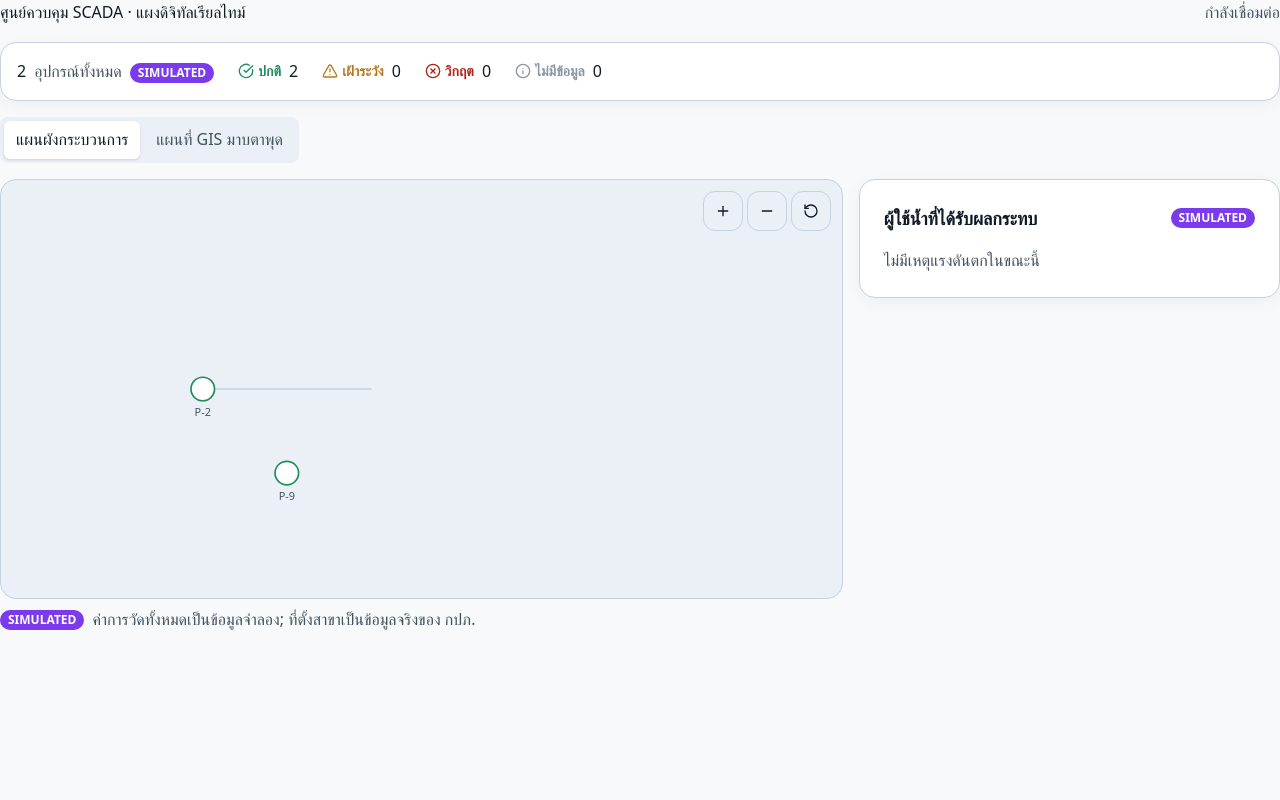
OperationsTwinScreen GIS view › renders the verified bundle: map, provenance legend, energy card, bound-pump SEC
Check: the element showing "แผนผังกระบวนการ แผนที่ GIS มาบตาพุด" is shown, box [0, 117, 299, 163]
Click the tab "แผนที่ GIS มาบตาพุด": (220, 140) [144, 121, 295, 159]
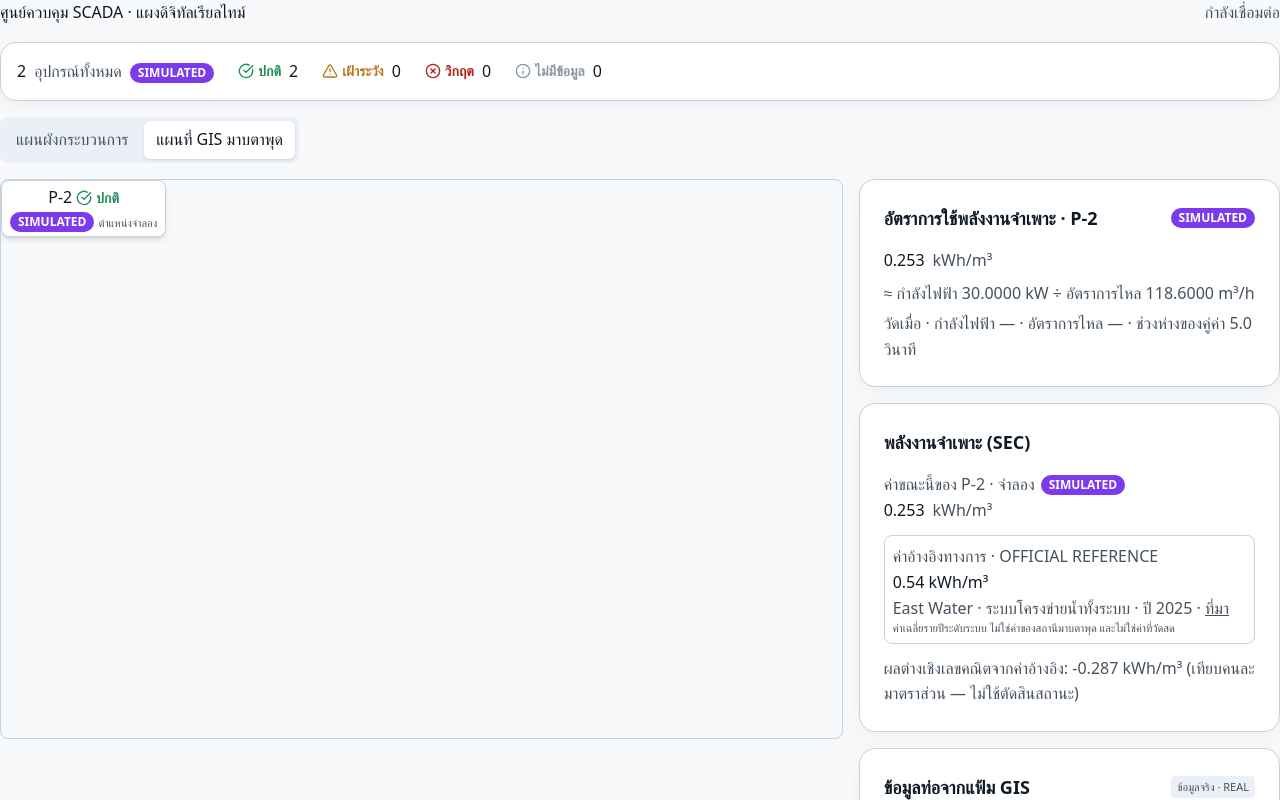
Check: the element with test id "gis-network-view" is shown, box [0, 179, 843, 739]
Check: the element with test id "energy-official-reference" shows "0.54", box [893, 571, 924, 593]
Check: the element with test id "energy-sec-live" shows "0.253", box [884, 499, 925, 521]
